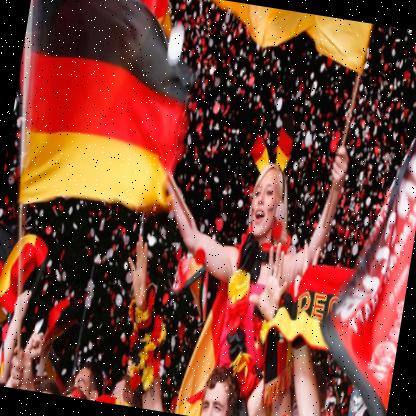de: (6, 1, 204, 214), (260, 256, 357, 356), (43, 293, 86, 349), (1, 225, 18, 328), (241, 127, 276, 177), (263, 340, 297, 385), (272, 119, 298, 171), (44, 347, 69, 396), (1, 342, 11, 385)
